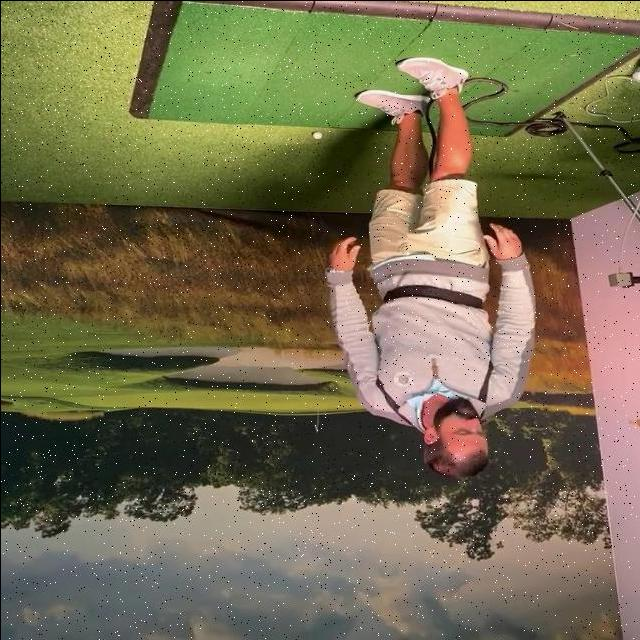golf ball: (311, 131, 321, 139)
